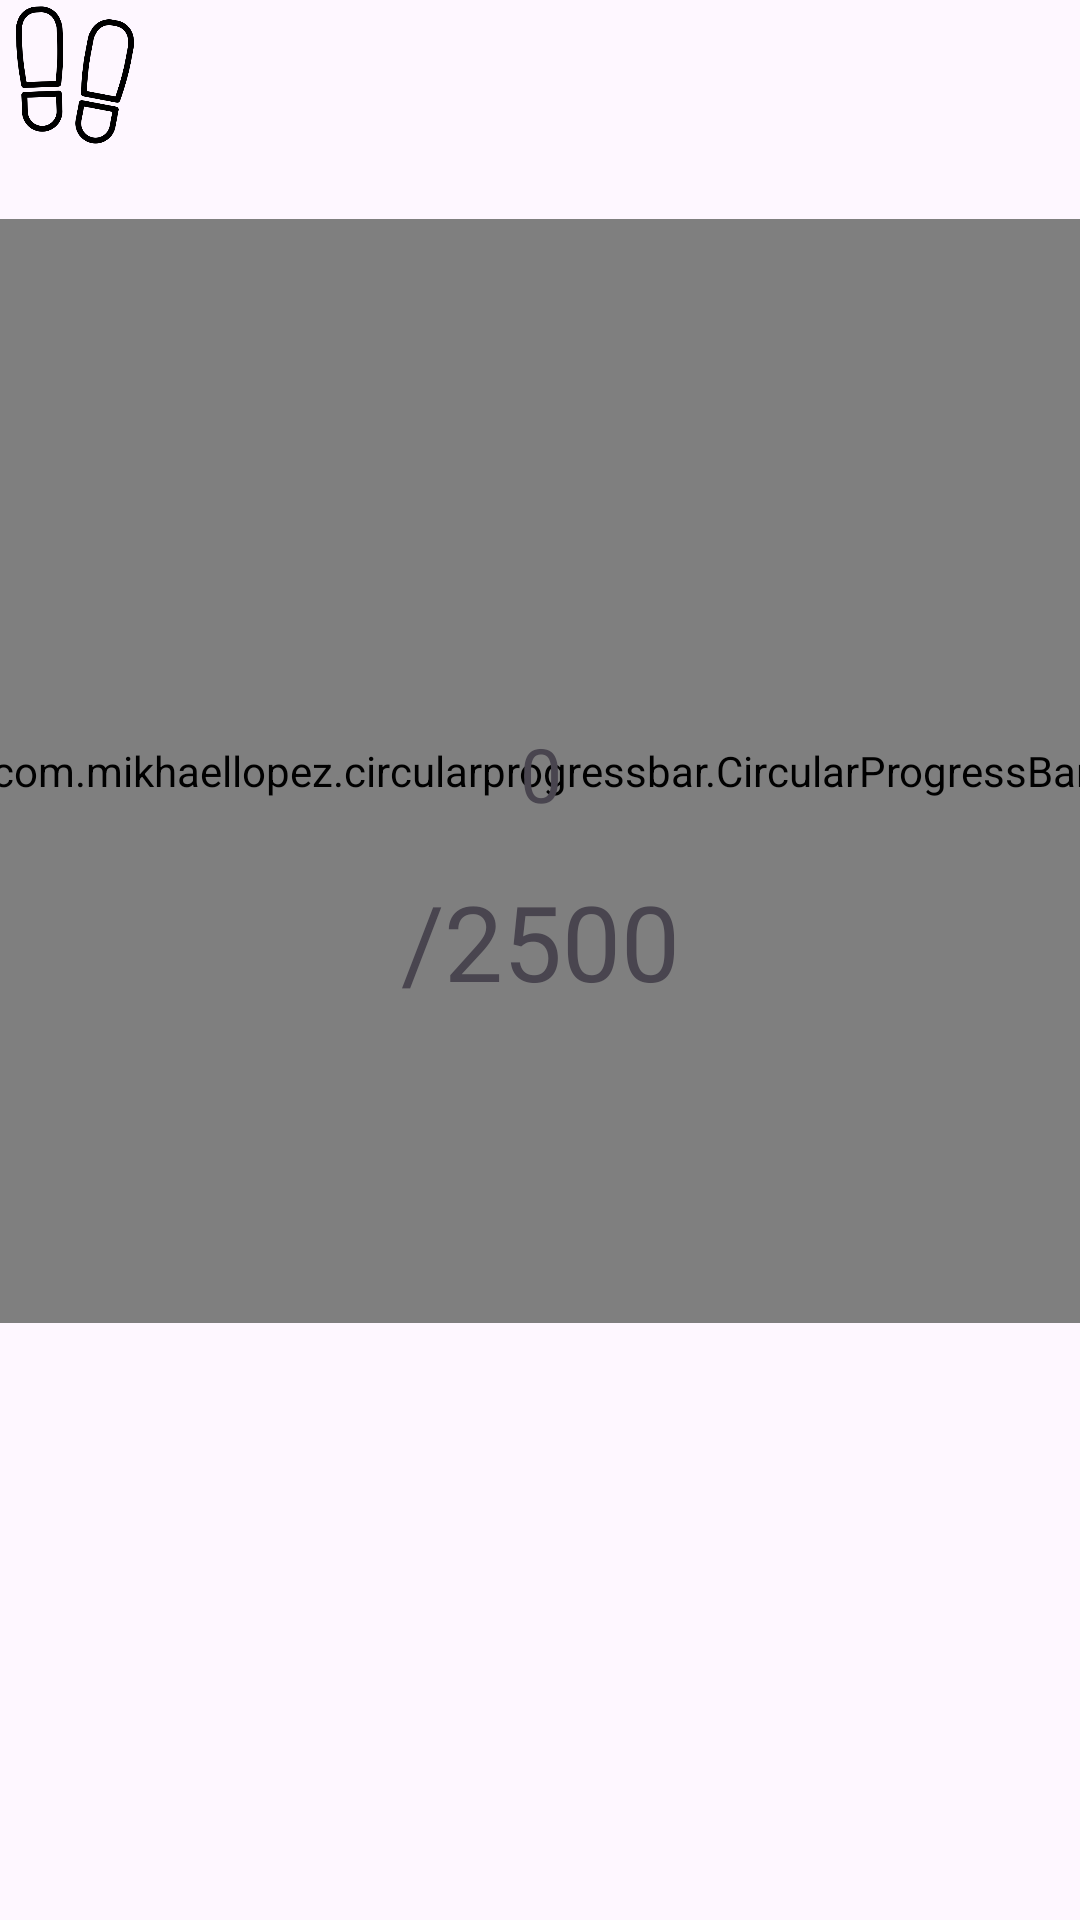

Where to tap for icons on this 1080w x 1920h app screen, as (x=x, y=y):
steps: (x=75, y=75)
